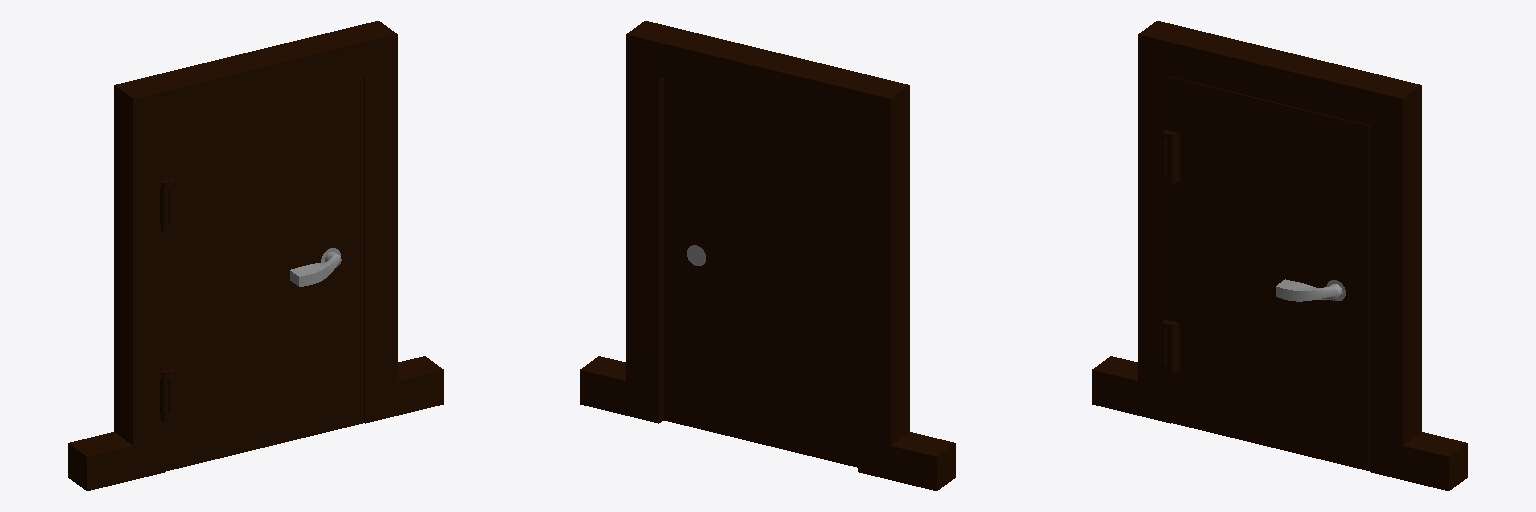
URDF robot description (door):
<?xml version="1.0"?>
<!-- created with Phobos 1.0.1 "Capricious Choutengan" -->
  <robot name="door">

    <link name="door_handle_link">
      <inertial>
        <origin xyz="-0.0349 -0.002 0.051" rpy="0 0 0"/>
        <mass value="0.1"/>
        <inertia ixx="0.0398" ixy="0.0121" ixz="0.001" iyy="0.0411" iyz="-0.0045" izz="0.005"/>
      </inertial>
      <visual name="handle">
        <origin xyz="-0.0949 -0.252 0" rpy="0 0 0.0203"/>
        <geometry>
          <mesh filename="../meshes/dae/handle.dae" scale="1.0 1.0 1.0"/>
        </geometry>
        <material name="mat_02"/>
      </visual>
      <collision name="handle">
        <origin xyz="-0.0331 -0.0005 0.0498" rpy="0 0 0.0203"/>
        <geometry>
          <box size="0.0749 0.0149 0.0244"/>
        </geometry>
      </collision>
    </link>

    <link name="frame_door_link">
      <inertial>
        <origin xyz="0.155 -0.03 -0.14" rpy="0 0 0"/>
        <mass value="1.0"/>
        <inertia ixx="0.0816" ixy="0.0005" ixz="0.0001" iyy="0.0891" iyz="-0.0014" izz="0.0078"/>
      </inertial>
      <visual name="door">
        <origin xyz="0.155 -0.03 0.11" rpy="-1.5708 0 0"/>
        <geometry>
          <mesh filename="../meshes/dae/door.dae" scale="1.0 1.0 1.0"/>
        </geometry>
        <material name="mat_01"/>
      </visual>
      <collision name="door">
        <origin xyz="0.155 -0.0249 -0.141" rpy="-1.5708 0 0"/>
        <geometry>
          <box size="0.2985 0.5 0.0366"/>
        </geometry>
      </collision>
    </link>

    <link name="root">
      <inertial>
        <origin xyz="0 0 0.225" rpy="0 0 0"/>
        <mass value="0.75"/>
        <inertia ixx="0.0808" ixy="0.0002" ixz="0" iyy="0.0915" iyz="0" izz="0.011"/>
      </inertial>
      <visual name="frame">
        <origin xyz="0 0 0" rpy="1.5708 0 0"/>
        <geometry>
          <mesh filename="../meshes/dae/frame.dae" scale="1.0 1.0 1.0"/>
        </geometry>
        <material name="mat_01"/>
      </visual>
      <collision name="frame">
        <origin xyz="0 0 0.276" rpy="1.5708 0 0"/>
        <geometry>
          <box size="0.3972 0.552 0.0479"/>
        </geometry>
      </collision>
    </link>

    <joint name="door_handle_link" type="revolute">
      <origin xyz="0.255 -0.03 -0.14" rpy="-1.5708 0 0"/>
      <parent link="frame_door_link"/>
      <child link="door_handle_link"/>
      <axis xyz="0 0 1.0"/>
      <limit lower="0" upper="0.7" effort="0" velocity="0"/>
    </joint>

    <joint name="frame_door_link" type="revolute">
      <origin xyz="-0.155 -0.03 0.11" rpy="3.1416 0 0"/>
      <parent link="root"/>
      <child link="frame_door_link"/>
      <axis xyz="0 0 1.0"/>
      <limit lower="0" upper="1.57" effort="0" velocity="0"/>
    </joint>

    <material name="mat_01">
      <color rgba="0.1762 0.0907 0.0322 1.0"/>
    </material>

    <material name="mat_02">
      <color rgba="0.6 0.6 0.6 1.0"/>
    </material>

  </robot>

--- Facts derived from the render (not from the file) ---
The picture shows the robot from 3 angles, left to right: view 1: azimuth 30°, elevation 25°; view 2: azimuth 150°, elevation 25°; view 3: azimuth 330°, elevation 25°; orthographic projection.
Robot: door — 3 links, 2 joints (2 revolute); root link root; default pose: every joint at zero.
Visible links, largest first — view 1: frame_door_link, root, door_handle_link; view 2: frame_door_link, root; view 3: frame_door_link, root, door_handle_link.
Boxes of the visible links, bbox=[...] form: frame_door_link: bbox=[161, 77, 363, 470]; root: bbox=[68, 21, 443, 490]; door_handle_link: bbox=[290, 248, 341, 286]; frame_door_link: bbox=[664, 78, 857, 467]; root: bbox=[580, 21, 955, 490]; frame_door_link: bbox=[1162, 77, 1369, 470]; root: bbox=[1092, 21, 1467, 490]; door_handle_link: bbox=[1276, 279, 1345, 301].
Bounding box of the posed robot: 0.541 × 0.0889 × 0.552 m (x, y, z).
3 mesh visuals loaded from 3 distinct referenced files (3 Collada DAE).